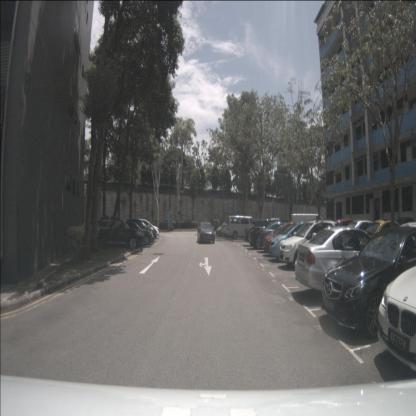human-pedestrian-adult: (224, 213, 228, 230)
vehicle-car: (322, 227, 415, 338), (295, 227, 405, 305), (279, 220, 362, 271), (377, 264, 416, 372), (269, 222, 336, 267), (358, 220, 412, 269), (263, 222, 320, 264), (90, 216, 144, 250), (258, 222, 302, 253), (249, 220, 287, 250), (245, 219, 280, 247), (116, 221, 154, 245), (289, 214, 325, 238), (226, 216, 260, 240), (122, 220, 157, 242), (129, 219, 159, 238), (221, 220, 245, 238), (197, 222, 215, 244), (216, 221, 237, 237)
